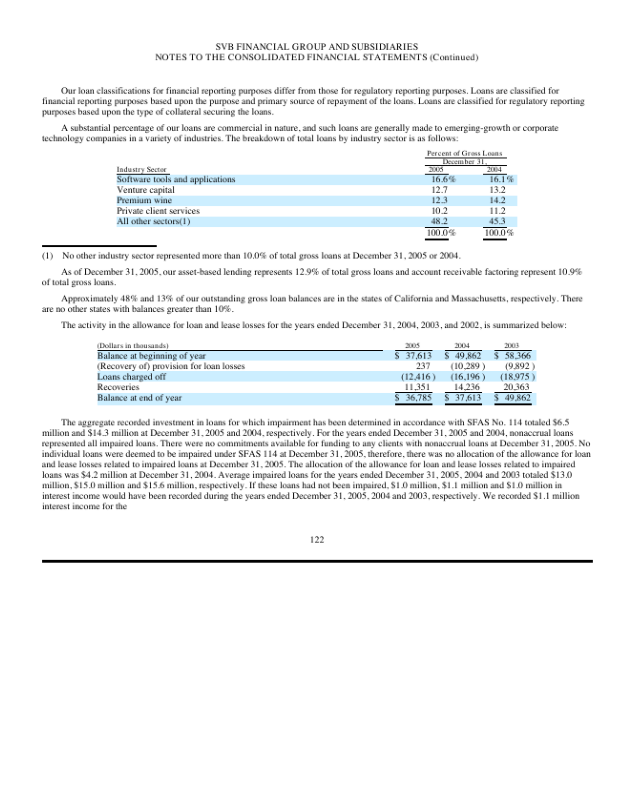table: (393, 339, 538, 412), (420, 149, 514, 246)
